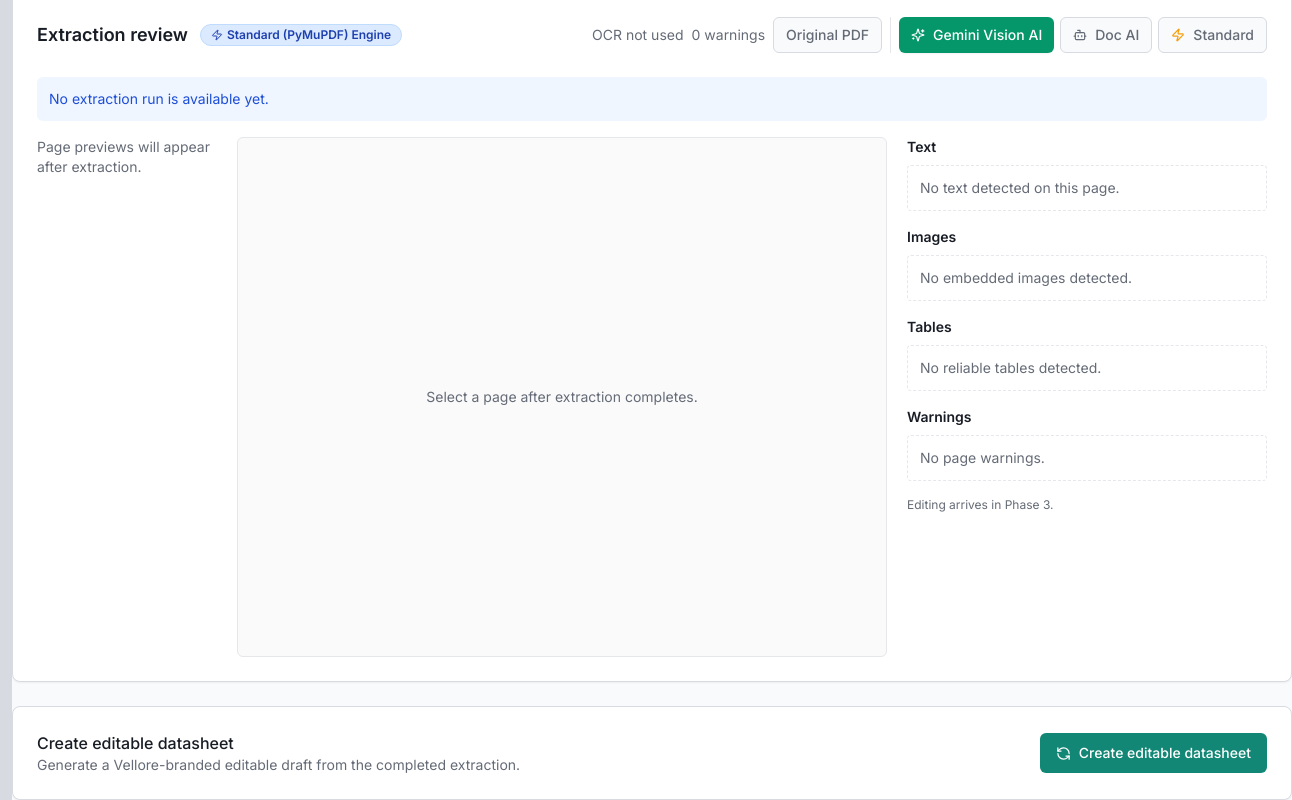
Test: DatasheetComposer › shows the safe save failure message
(page scrolled)
Click the button "Create editable datasheet": (1153, 753) x1=1040 y1=733 x2=1267 y2=773
(page scrolled)
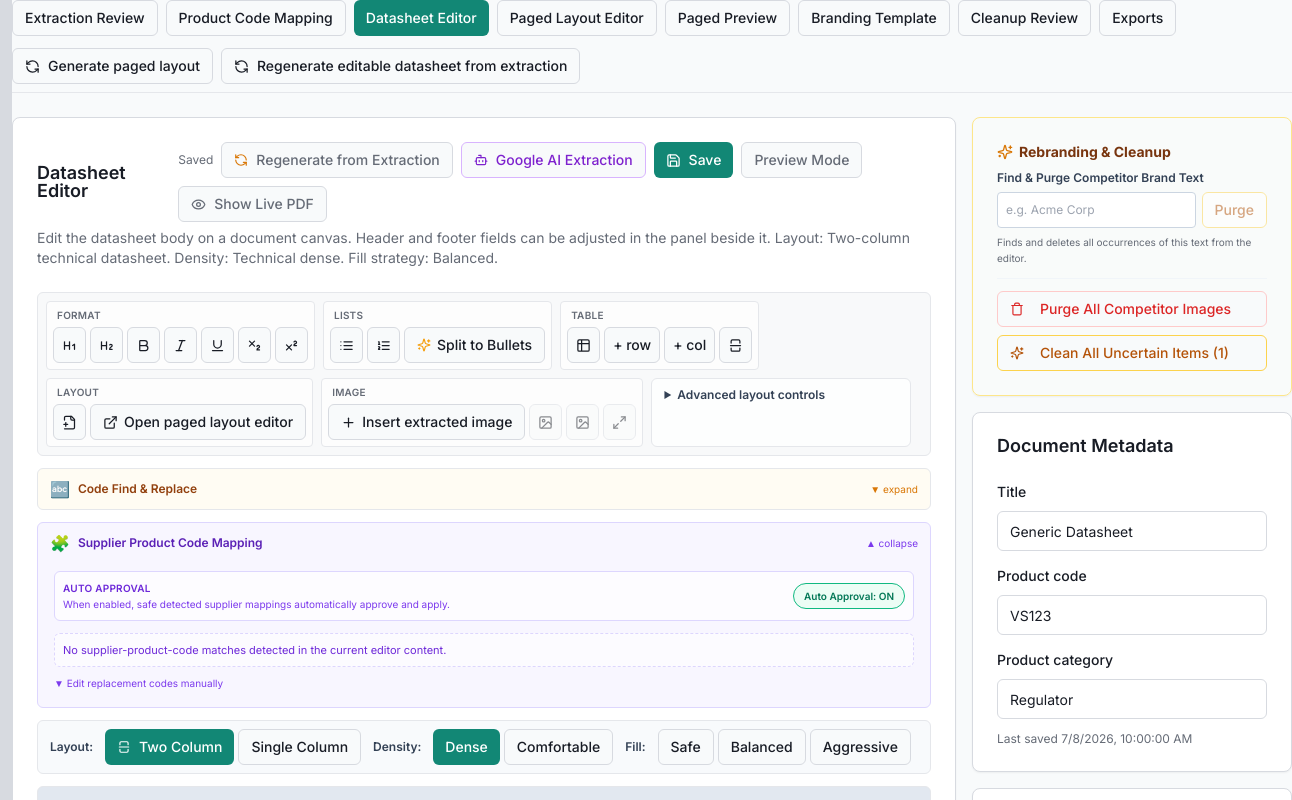
Check: the button "Save" is shown
Click the button "Save": (694, 160) x1=654 y1=142 x2=733 y2=178
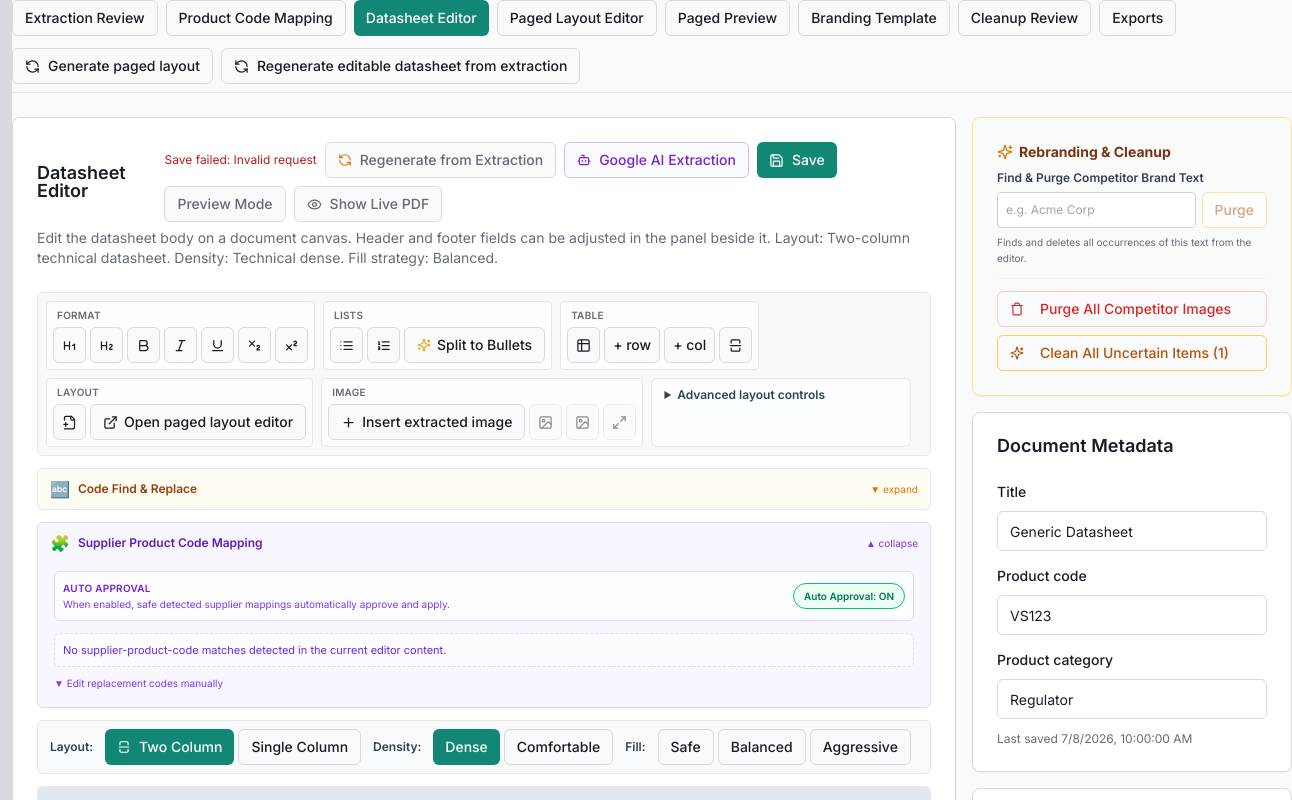
Check: the text "Save failed: Invalid request" is shown, box x1=164 y1=152 x2=317 y2=168
